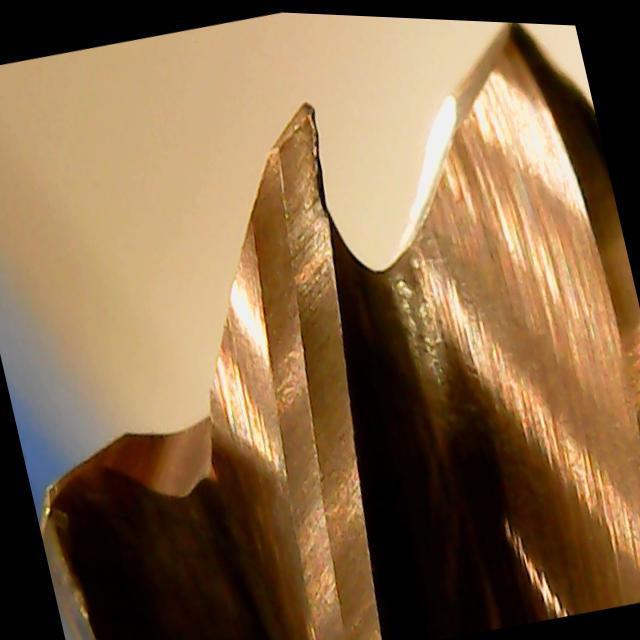Tool-wear-class-1: (191, 85, 396, 433)
